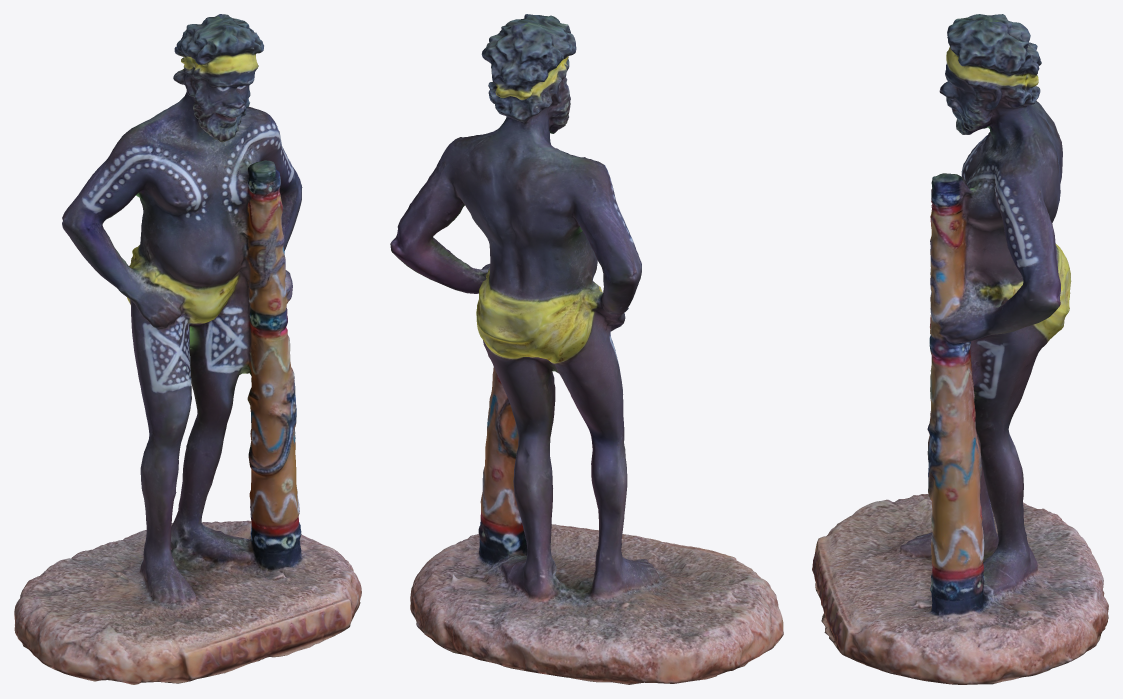
File: aborigene.glb
The picture shows the model from 3 angles, left to right: view 1: azimuth 30°, elevation 25°; view 2: azimuth 150°, elevation 25°; view 3: azimuth 270°, elevation 25°; orthographic projection. The views are drawn at different scales.
Visible parts, largest first — view 1: aborigene; view 2: aborigene; view 3: aborigene.
Part boxes in pixels (bbox=[...]): aborigene: bbox=[14, 14, 361, 684]; aborigene: bbox=[390, 14, 783, 684]; aborigene: bbox=[812, 14, 1108, 684].
Size of the model in its own units: 0.4816 by 0.832 by 0.3659.
Materials: 1 (1 with a texture image).
